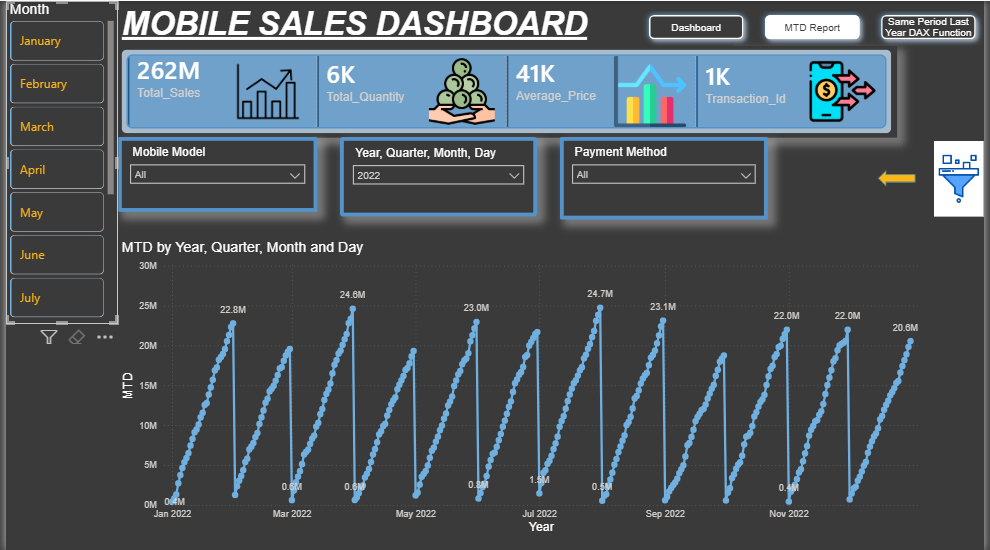

The dashboard page shown, as its layout file describes it:
{"tool":"powerbi","page":{"name":"MTD Report","canvas":[1280,720],"ordinal":1},"visuals":[{"type":"advancedSlicerVisual","fields":{"Values":["Custom_Calendar.Date.Variation.Date Hierarchy.Month"]},"box":[0,0,146.9,423.4],"z":0},{"type":"cardVisual","fields":{"Data":["Mobile Sales Data.Total_Sales","Mobile Sales Data.Total_Quantity","Mobile Sales Data.Average_Price","Mobile Sales Data.Transaction_Id"]},"box":[146.9,59,1019.5,119.5],"z":1000},{"type":"slicer","fields":{"Values":["Mobile Sales Data.Mobile Model"]},"box":[146.9,178.6,260.6,97.9],"z":2000},{"type":"slicer","fields":{"Values":["Mobile Sales Data.Payment Method"]},"box":[725.8,178.6,272.2,108],"z":3000},{"type":"slicer","fields":{"Values":["Custom_Calendar.Date.Variation.Date Hierarchy.Year","Custom_Calendar.Date.Variation.Date Hierarchy.Quarter","Custom_Calendar.Date.Variation.Date Hierarchy.Month","Custom_Calendar.Date.Variation.Date Hierarchy.Day"]},"box":[437.8,178.6,257.8,103.7],"z":4000},{"type":"image","box":[1215.4,182.9,64.8,99.4],"z":5000},{"type":"shape","box":[1141.9,221.8,49,21.6],"z":6000},{"type":"textbox","box":[146.9,0,806.4,59],"z":7000},{"type":"lineChart","fields":{"Y":["Mobile Sales Data.MTD"],"Category":["Custom_Calendar.Date.Variation.Date Hierarchy.Year","Custom_Calendar.Date.Variation.Date Hierarchy.Quarter","Custom_Calendar.Date.Variation.Date Hierarchy.Month","Custom_Calendar.Date.Variation.Date Hierarchy.Day"]},"box":[146.9,311,1068.5,390.2],"z":8000},{"type":"pageNavigator","box":[832.2,8.6,447.8,50.4],"z":8001}]}

Visuals, with their boxes in screenshot pixels (x1, y1, x2, y2), scaled from the page's 1280x720 canvas onto the 990x550 screenshot:
advancedSlicerVisual - Custom_Calendar.Date.Variation.Date Hierarchy.Month: {"left": 0, "top": 0, "right": 114, "bottom": 323}
cardVisual - Mobile Sales Data.Total_Sales x Mobile Sales Data.Total_Quantity: {"left": 114, "top": 45, "right": 902, "bottom": 136}
slicer - Mobile Sales Data.Mobile Model: {"left": 114, "top": 136, "right": 315, "bottom": 211}
slicer - Mobile Sales Data.Payment Method: {"left": 561, "top": 136, "right": 772, "bottom": 219}
slicer - Custom_Calendar.Date.Variation.Date Hierarchy.Year x Custom_Calendar.Date.Variation.Date Hierarchy.Quarter: {"left": 339, "top": 136, "right": 538, "bottom": 216}
image: {"left": 940, "top": 140, "right": 989, "bottom": 216}
shape: {"left": 883, "top": 169, "right": 921, "bottom": 186}
textbox: {"left": 114, "top": 0, "right": 737, "bottom": 45}
lineChart - Mobile Sales Data.MTD x Custom_Calendar.Date.Variation.Date Hierarchy.Year: {"left": 114, "top": 238, "right": 940, "bottom": 536}
pageNavigator: {"left": 644, "top": 7, "right": 989, "bottom": 45}
